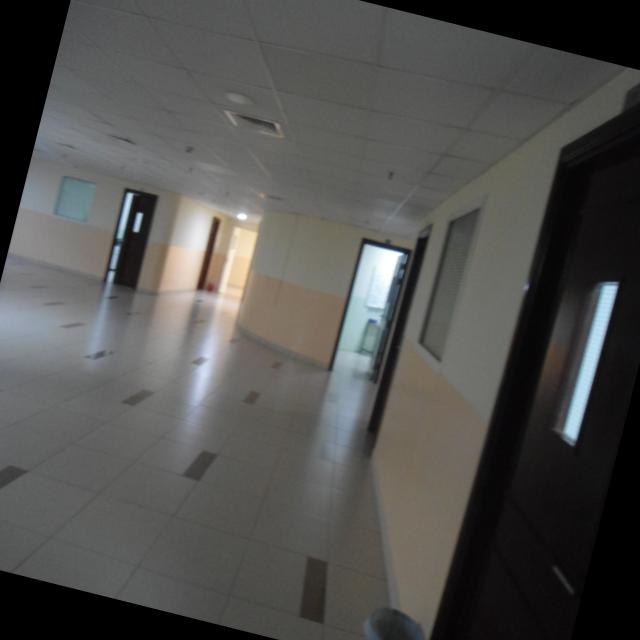door: (406, 50, 640, 640), (324, 229, 419, 398), (362, 225, 432, 454), (95, 187, 161, 297), (214, 214, 258, 296), (192, 212, 226, 288)
dustbin: (343, 587, 449, 640)
wall: (317, 109, 563, 640), (222, 191, 374, 379), (8, 142, 128, 274), (142, 187, 223, 299)
window: (409, 178, 491, 362), (51, 169, 98, 227)
